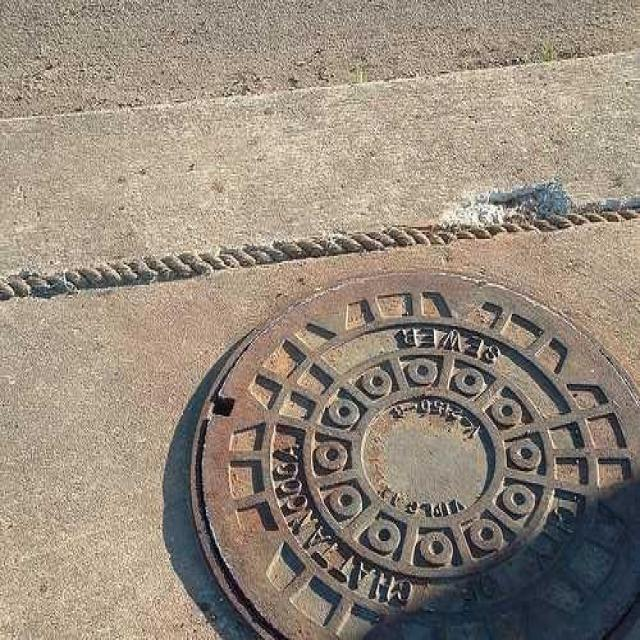manhole: (188, 275, 640, 640)
